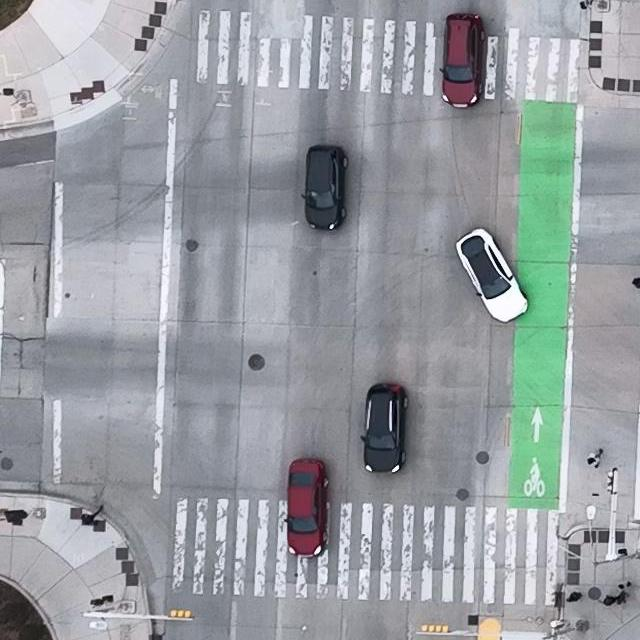car: (456, 227, 528, 322), (282, 457, 328, 557), (440, 12, 486, 109), (361, 381, 408, 475), (302, 144, 348, 231)
